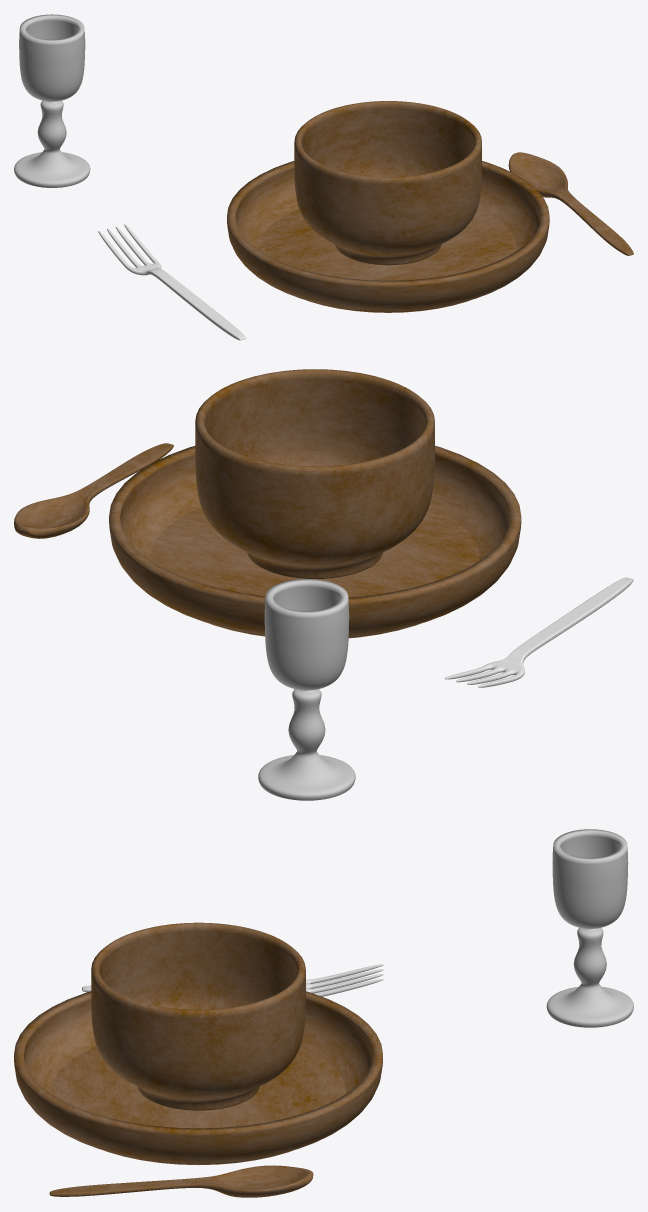
Rendered from woodeneatingcollection.fbx.
The picture shows the model from 3 angles, top to bottom: view 1: azimuth 30°, elevation 25°; view 2: azimuth 150°, elevation 25°; view 3: azimuth 270°, elevation 25°; orthographic projection. The views are drawn at different scales.
Visible parts, largest first — view 1: plate, plate2, glass, spoon, fork; view 2: plate, plate2, glass, spoon, fork; view 3: plate, plate2, glass, spoon, fork.
Boxes of the visible parts, left/top/right/bottom form: plate: left=294, top=101, right=481, bottom=265; plate2: left=227, top=161, right=549, bottom=312; glass: left=14, top=14, right=90, bottom=187; spoon: left=508, top=152, right=633, bottom=255; fork: left=98, top=224, right=246, bottom=340; plate: left=195, top=369, right=434, bottom=578; plate2: left=109, top=446, right=521, bottom=638; glass: left=258, top=579, right=355, bottom=800; spoon: left=14, top=443, right=173, bottom=538; fork: left=444, top=577, right=633, bottom=687; plate: left=91, top=922, right=305, bottom=1110; plate2: left=14, top=991, right=382, bottom=1165; glass: left=546, top=829, right=633, bottom=1027; spoon: left=49, top=1165, right=313, bottom=1197; fork: left=82, top=964, right=384, bottom=996.
Bounding box in the file's own units: 56.24 × 18.93 × 64.2.
